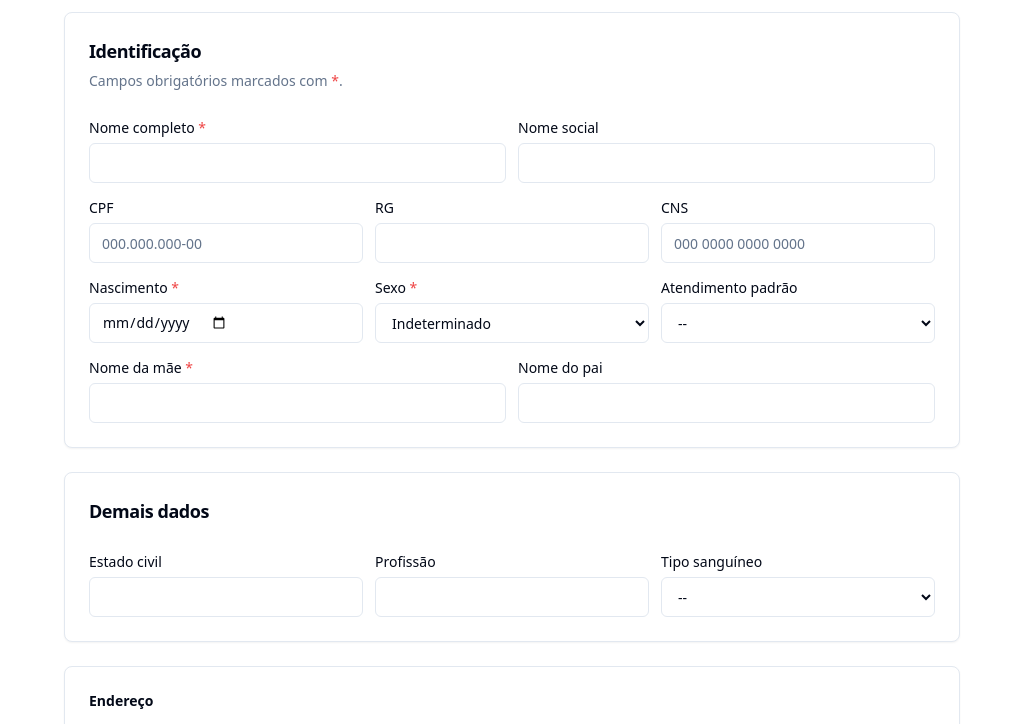
Test: <PacienteFormPage mode="create" /> › CPF inválido bloqueia submit
This screenshot has width=1024, height=724.
Type "Maria Souza" into the field labelled "Nome completo *" at (298, 163), box [89, 143, 506, 183]
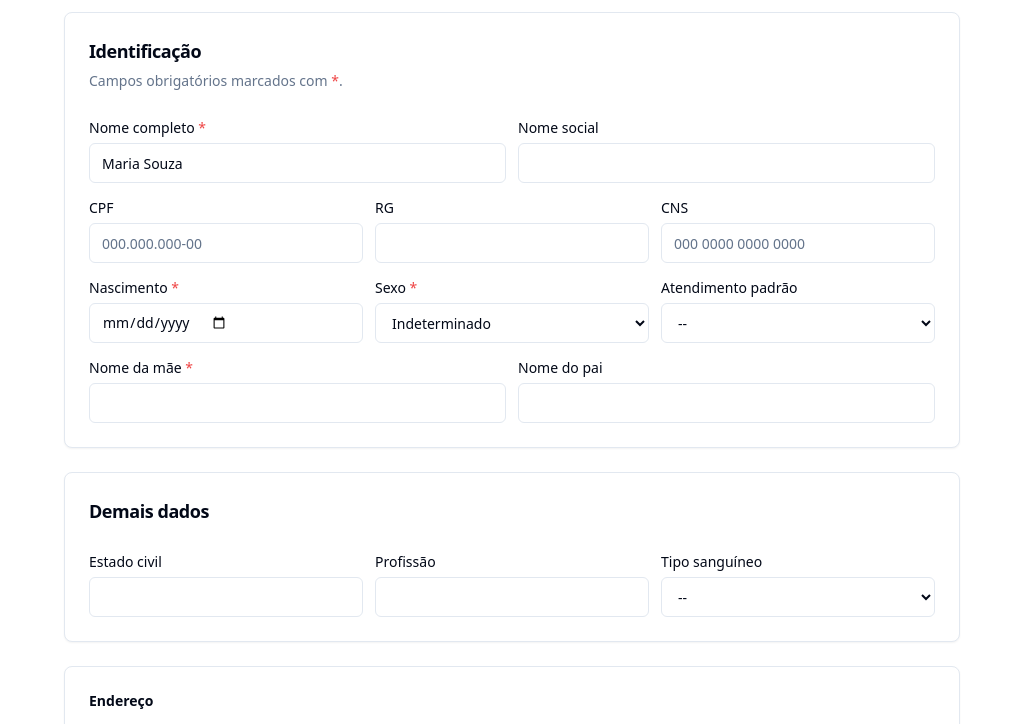
Type "1990-05-12" into the date field labelled "Nascimento *" at (226, 323), box [89, 303, 363, 343]
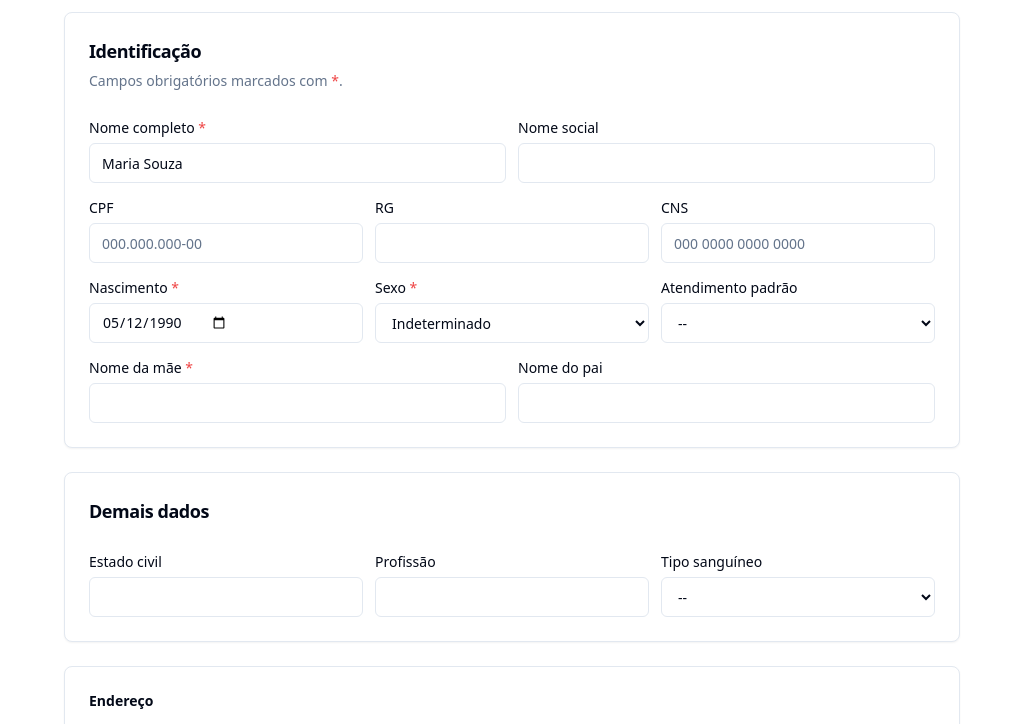
Select "Feminino" in the dropdown labelled "Sexo *" at (512, 323), box [375, 303, 649, 343]
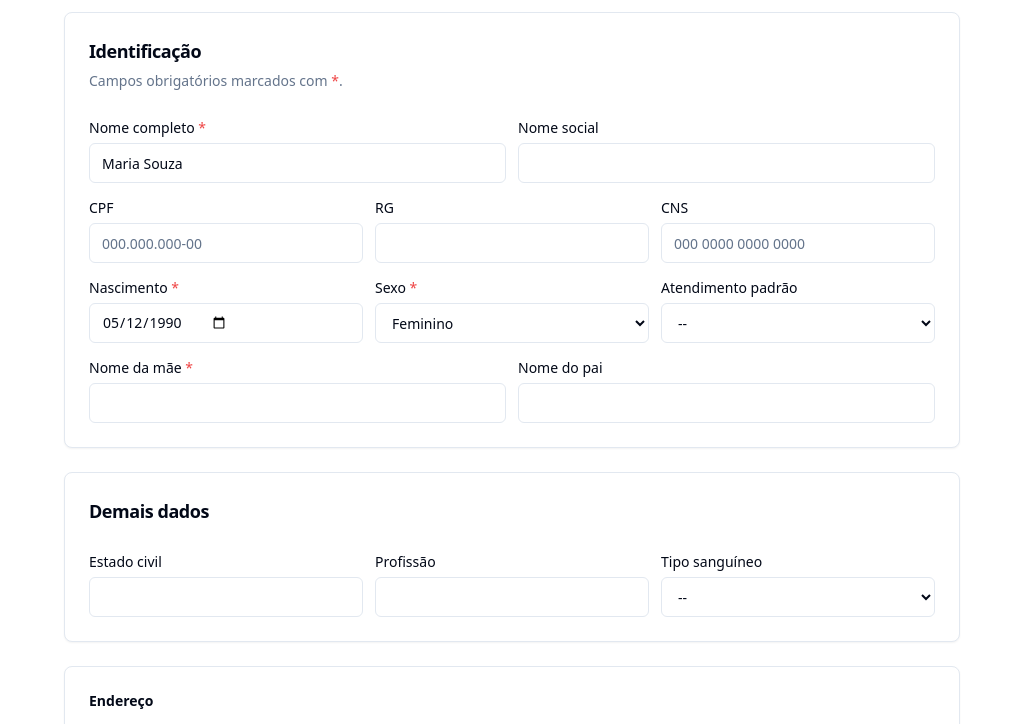
Type "Joana Souza" into the field labelled "Nome da mãe *" at (298, 403), box [89, 383, 506, 423]
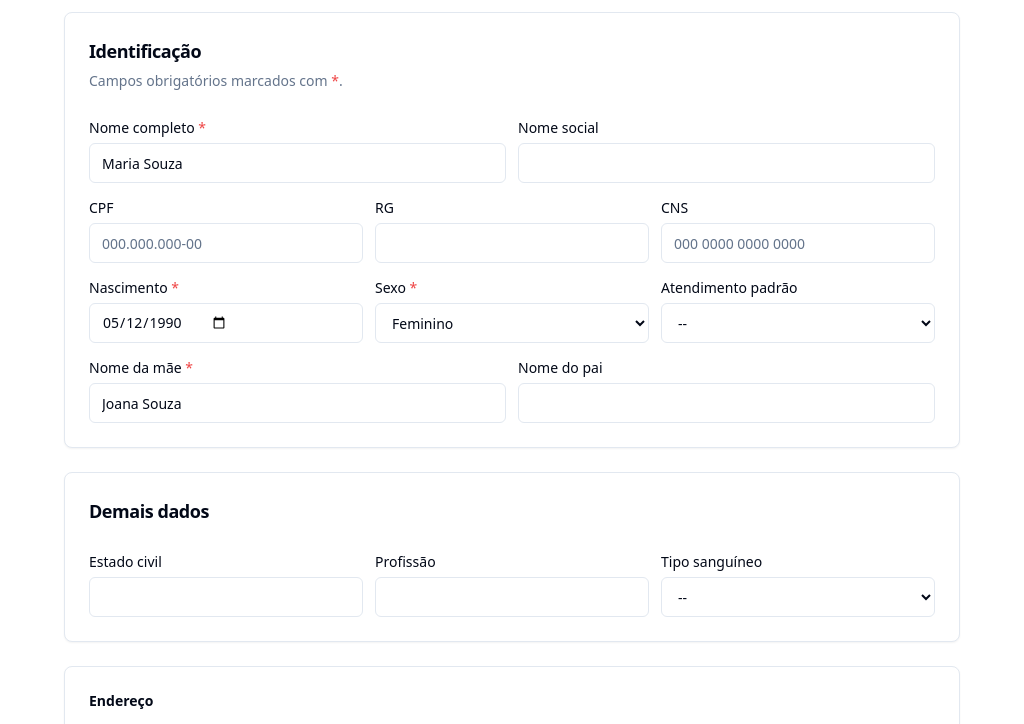
Type "11111111111" into the field labelled "CPF" at (226, 243), box [89, 223, 363, 263]
(page scrolled)
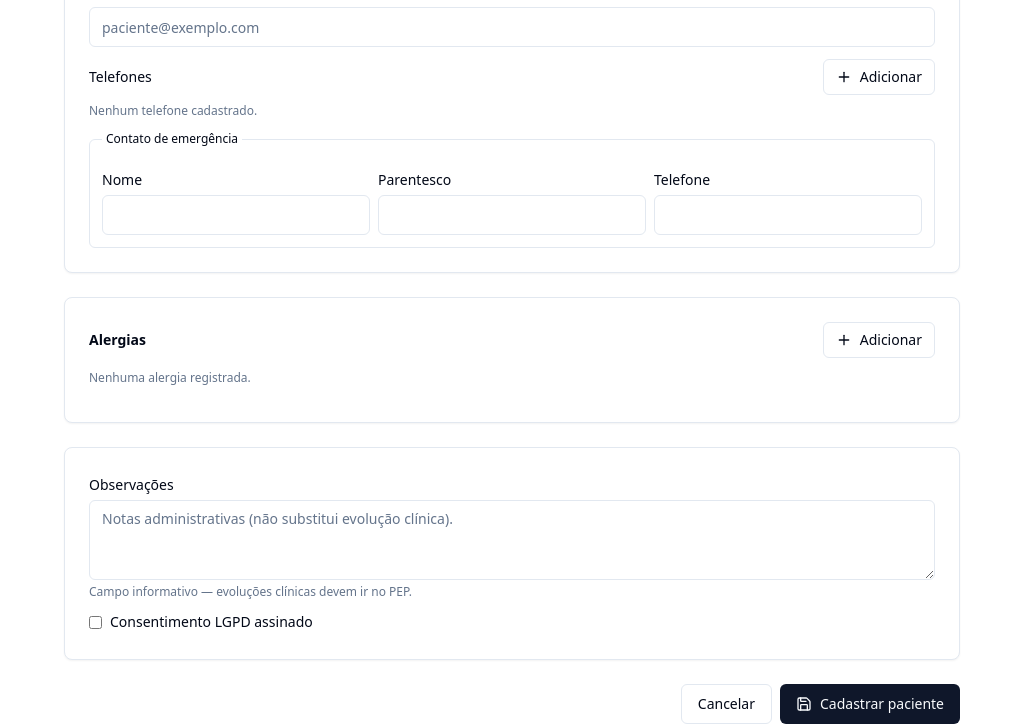
Click the button "Cadastrar paciente" at (870, 704), box [780, 684, 960, 723]
(page scrolled)
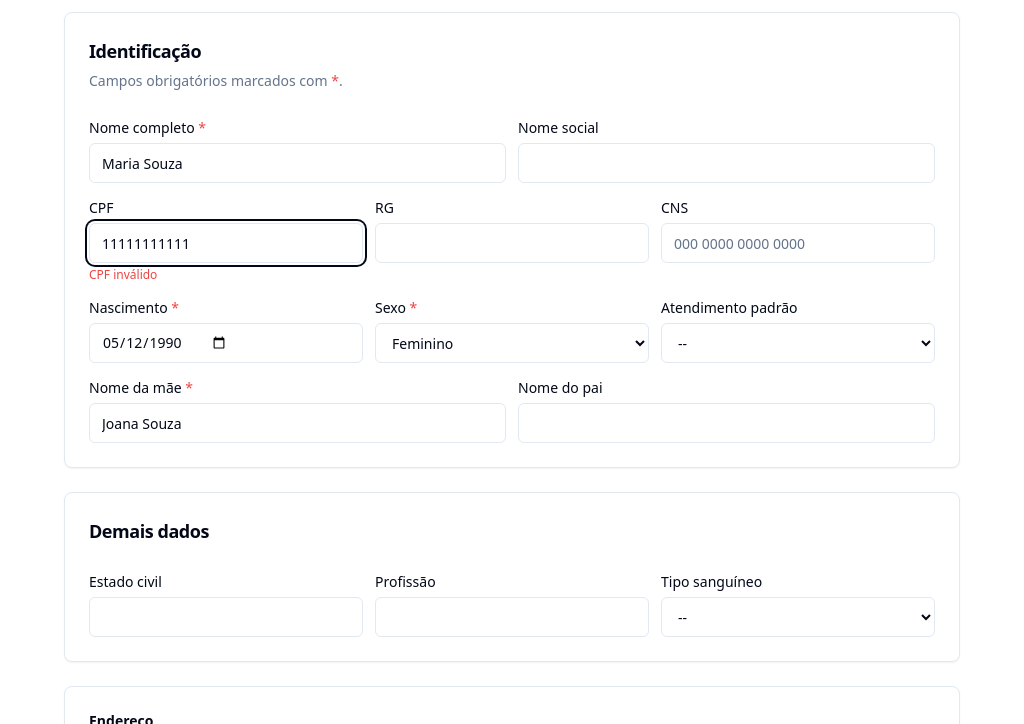
Result: the text "CPF inválido" is shown at [89, 266, 157, 283]
